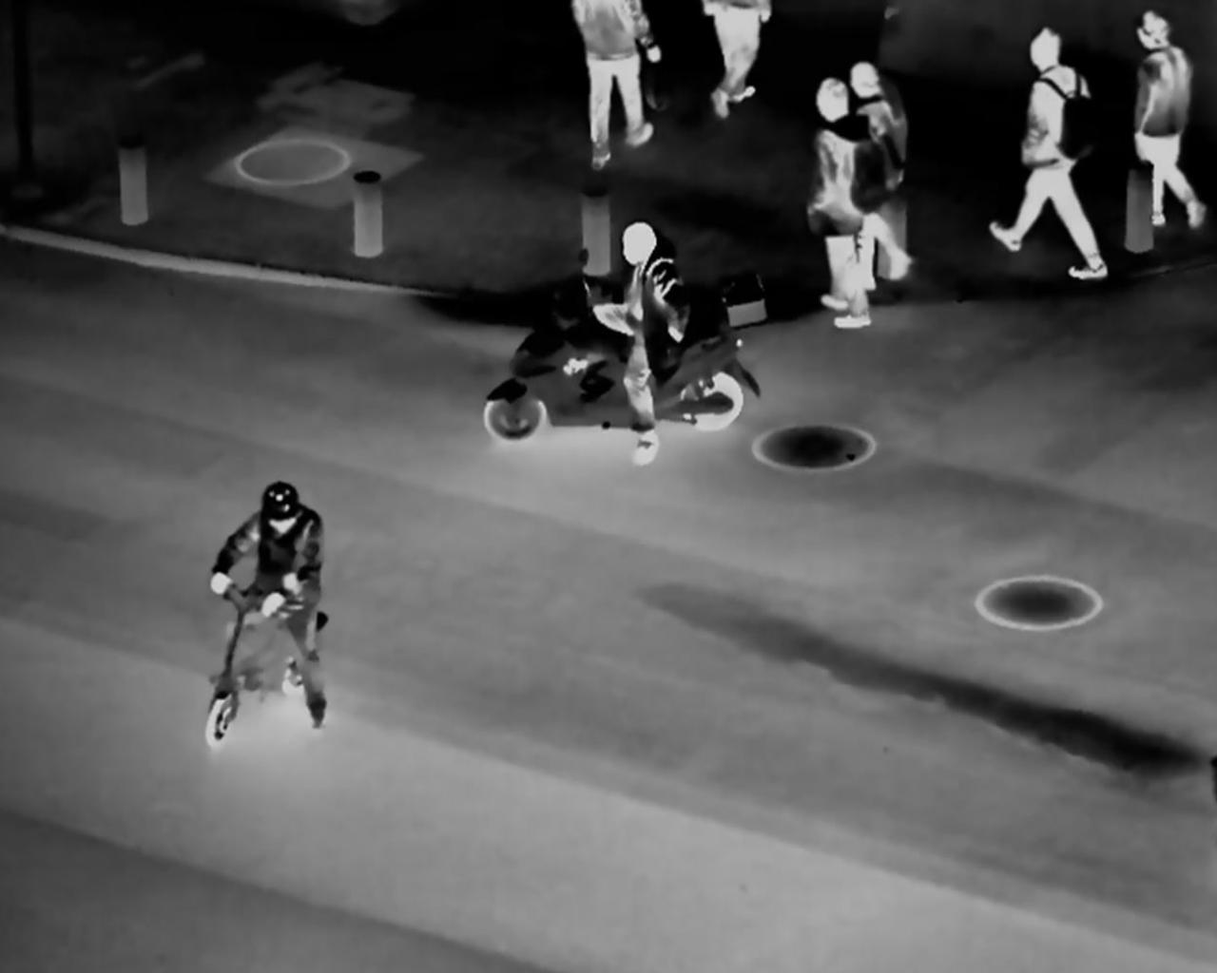person: (213, 451, 329, 739), (573, 216, 692, 467), (1003, 29, 1097, 283), (799, 74, 880, 327), (1123, 9, 1211, 238), (841, 58, 916, 294)
